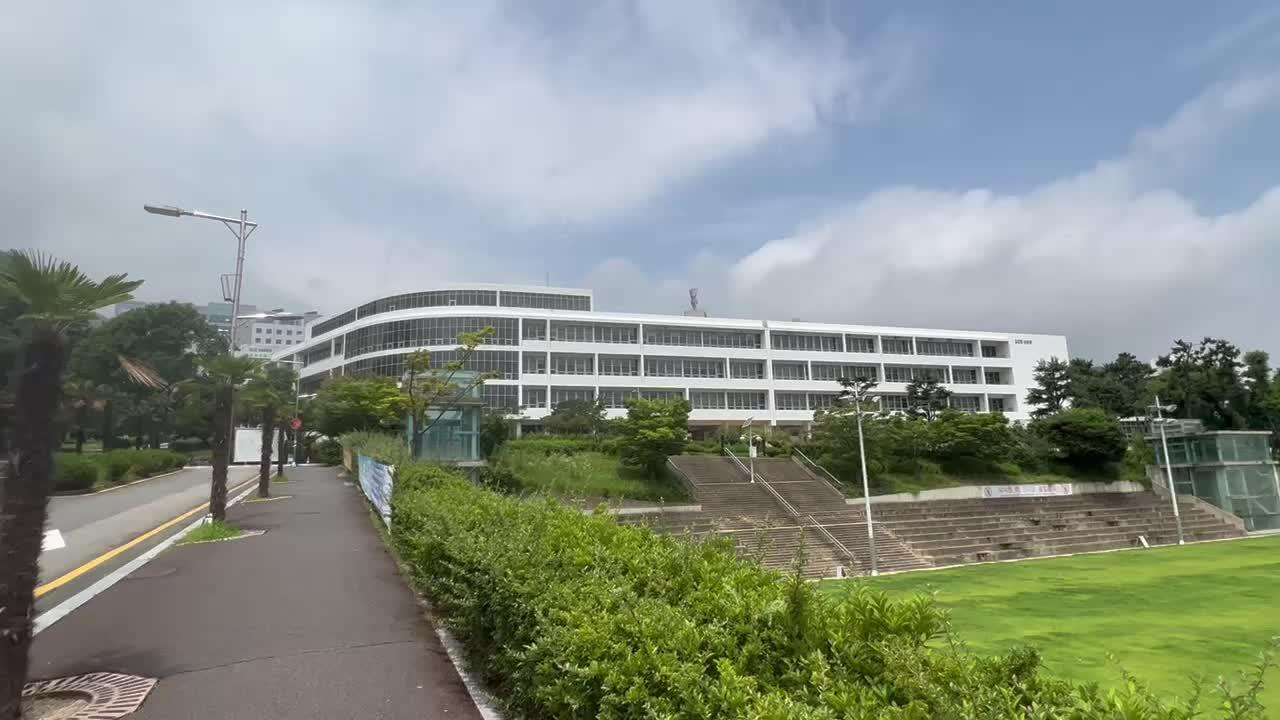building: (347, 278, 1019, 383)
